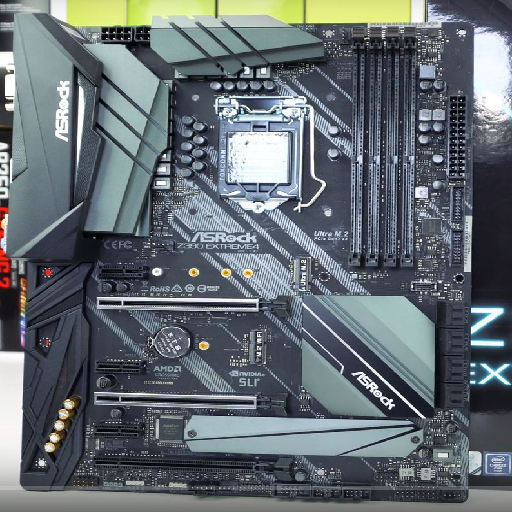CPU: (217, 95, 303, 213)
GPU: (94, 451, 295, 482), (95, 292, 293, 320), (93, 390, 289, 417)
MOTHERBOARD: (17, 23, 470, 504)
RAM: (350, 26, 415, 269)
SSD: (289, 255, 313, 292), (247, 329, 267, 366)
